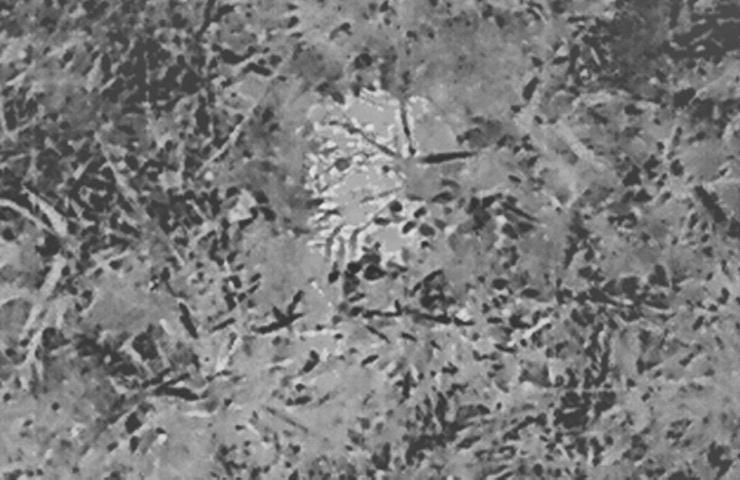landmines: (310, 86, 465, 258)
